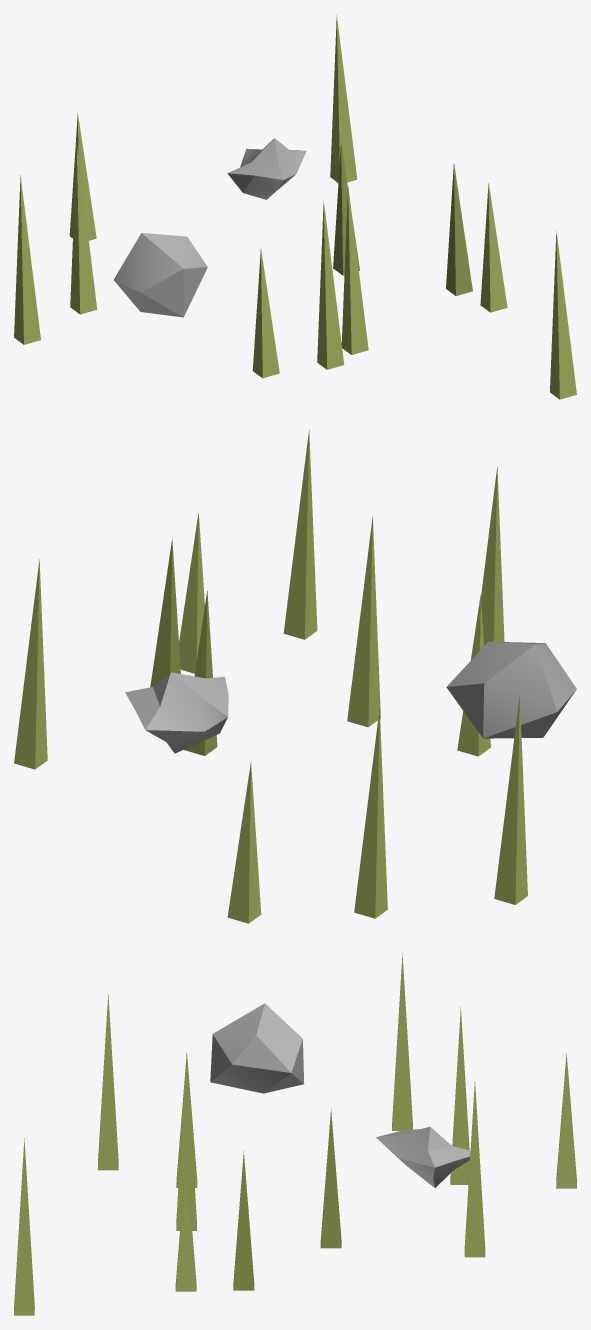
The model's file is LowPolyGrass.gltf.
3 renders of one model, top to bottom at view 1: azimuth 30°, elevation 25°; view 2: azimuth 150°, elevation 25°; view 3: azimuth 270°, elevation 25°, orthographic. The views are drawn at different scales.
Parts seen in each view (by area): view 1: Platonic, Platonic.1, Pyramid.2, Pyramid.10, Pyramid.9, Pyramid.6, Pyramid, Pyramid.5, Pyramid.4, Pyramid.3, Pyramid.7, Pyramid.1 (+1 smaller); view 2: Platonic, Platonic.1, Pyramid.10, Pyramid.2, Pyramid.9, Pyramid.6, Pyramid.5, Pyramid.8, Pyramid, Pyramid.3, Pyramid.4, Pyramid.7 (+1 smaller); view 3: Platonic, Platonic.1, Pyramid.5, Pyramid, Pyramid.6, Pyramid.9, Pyramid.10, Pyramid.1, Pyramid.4, Pyramid.2, Pyramid.3, Pyramid.8 (+1 smaller).
Part boxes in pixels (bbox=[...]): Platonic: bbox=[113, 233, 207, 317]; Platonic.1: bbox=[227, 138, 306, 199]; Pyramid.2: bbox=[341, 185, 368, 354]; Pyramid.10: bbox=[70, 145, 97, 314]; Pyramid.9: bbox=[14, 175, 40, 344]; Pyramid.6: bbox=[550, 230, 576, 399]; Pyramid: bbox=[317, 201, 344, 369]; Pyramid.5: bbox=[330, 15, 357, 182]; Pyramid.4: bbox=[446, 163, 472, 295]; Pyramid.3: bbox=[480, 183, 507, 312]; Pyramid.7: bbox=[252, 249, 279, 378]; Pyramid.1: bbox=[333, 142, 359, 275]; Platonic: bbox=[446, 641, 576, 738]; Platonic.1: bbox=[125, 672, 228, 753]; Pyramid.10: bbox=[354, 708, 387, 918]; Pyramid.2: bbox=[347, 516, 380, 727]; Pyramid.9: bbox=[494, 694, 527, 904]; Pyramid.6: bbox=[283, 429, 317, 639]; Pyramid.5: bbox=[14, 559, 47, 769]; Pyramid.8: bbox=[227, 762, 261, 923]; Pyramid: bbox=[481, 467, 504, 645]; Pyramid.3: bbox=[179, 513, 204, 673]; Pyramid.4: bbox=[150, 539, 180, 687]; Pyramid.7: bbox=[457, 594, 490, 756]; Platonic: bbox=[210, 1003, 304, 1093]; Platonic.1: bbox=[376, 1126, 479, 1187]; Pyramid.5: bbox=[464, 1081, 485, 1257]; Pyramid: bbox=[98, 994, 118, 1170]; Pyramid.6: bbox=[14, 1138, 34, 1315]; Pyramid.9: bbox=[392, 953, 412, 1130]; Pyramid.10: bbox=[450, 1006, 469, 1184]; Pyramid.1: bbox=[320, 1108, 341, 1248]; Pyramid.4: bbox=[233, 1151, 254, 1290]; Pyramid.2: bbox=[176, 1054, 196, 1230]; Pyramid.3: bbox=[175, 1155, 196, 1291]; Pyramid.8: bbox=[556, 1053, 576, 1188].
Bounding box in the file's own units: 279 × 159 × 348.
